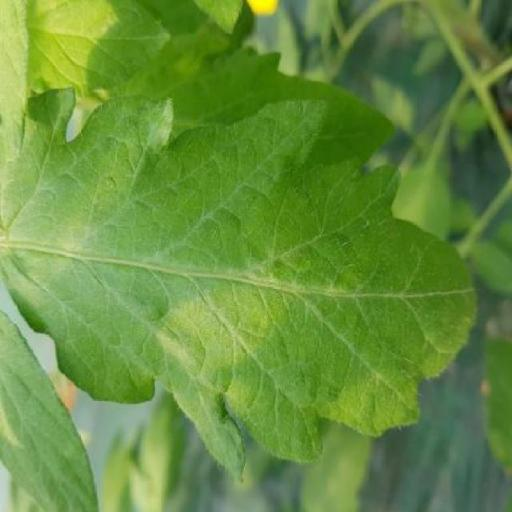Healthy: (0, 87, 478, 465)
